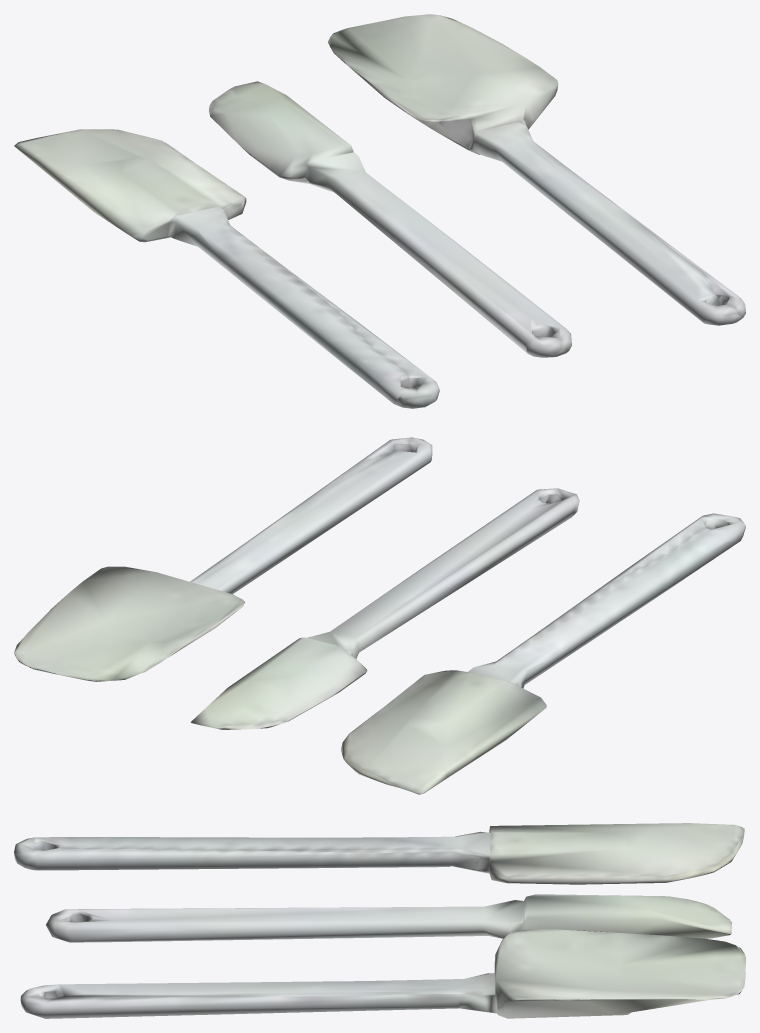
Rendered from Progressive_Rubber_Spatulas_3_count-medium.glb.
The picture shows the model from 3 angles, top to bottom: view 1: azimuth 30°, elevation 25°; view 2: azimuth 150°, elevation 25°; view 3: azimuth 270°, elevation 25°; orthographic projection.
Visible parts, largest first — view 1: Progressive_Rubber_Spatulas_3_count; view 2: Progressive_Rubber_Spatulas_3_count; view 3: Progressive_Rubber_Spatulas_3_count.
Boxes of the visible parts, <box> form: Progressive_Rubber_Spatulas_3_count: <box>14,14,745,408</box>; Progressive_Rubber_Spatulas_3_count: <box>14,437,745,794</box>; Progressive_Rubber_Spatulas_3_count: <box>14,823,745,1018</box>.
Bounding box in the file's own units: 0.1801 × 0.0207 × 0.2595.
1 material, 1 textured.
